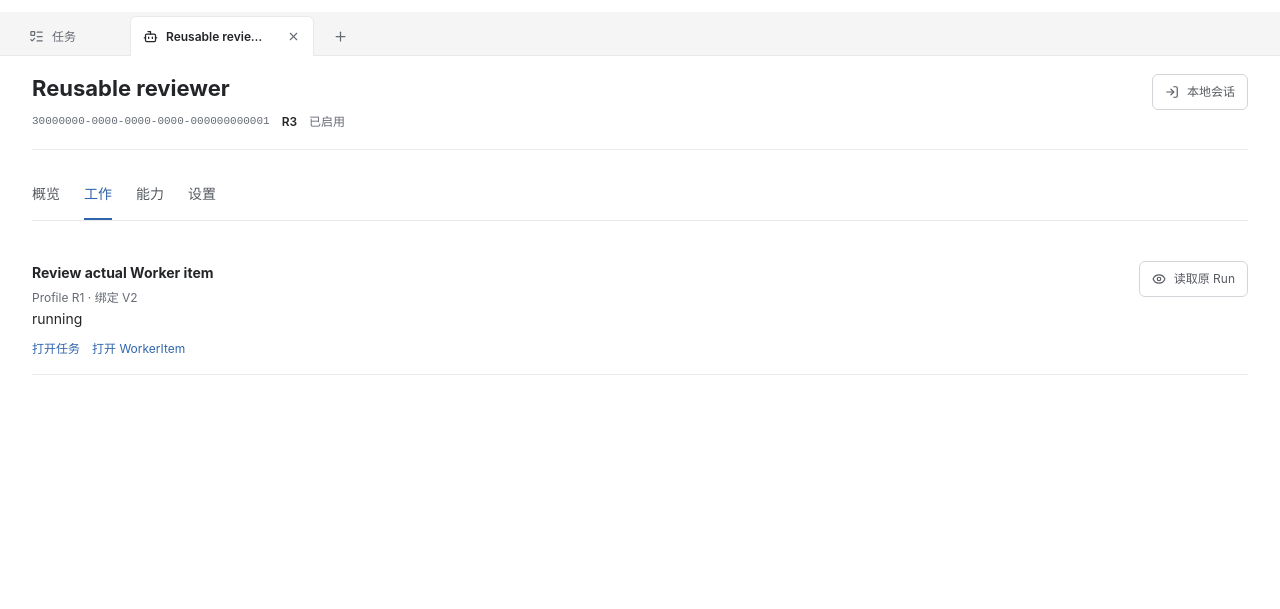
Test: Profile detail and original Work › keeps historical Work pins and reads the exact assignment discriminator only on request
The width and height of the screenshot is (1280, 609).
Expected: the text "Review actual Worker item" is shown, [32,264,214,281]
Expected: the text "Profile R1 · 绑定 V2" is shown, [32,290,138,305]
Click the button "读取原 Run".
click(1193, 279)  # box [1139,261,1248,297]
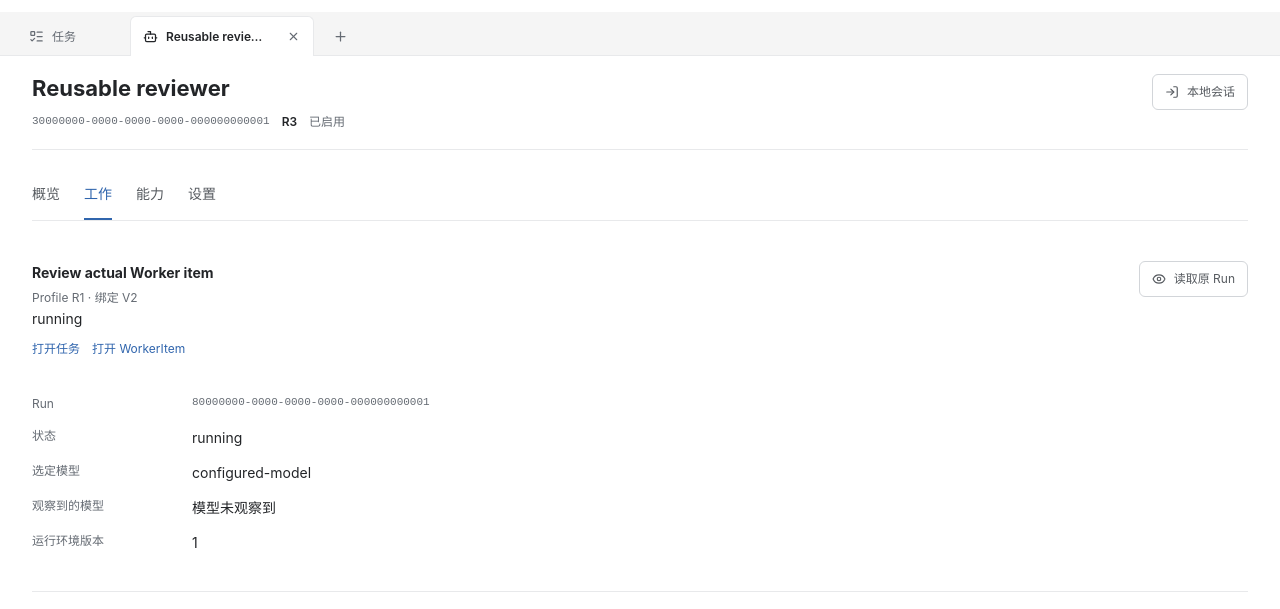
Expected: the text "模型未观察到" is shown, [192,499,276,516]
Expected: the text "configured-model" is shown, [192,464,311,481]
